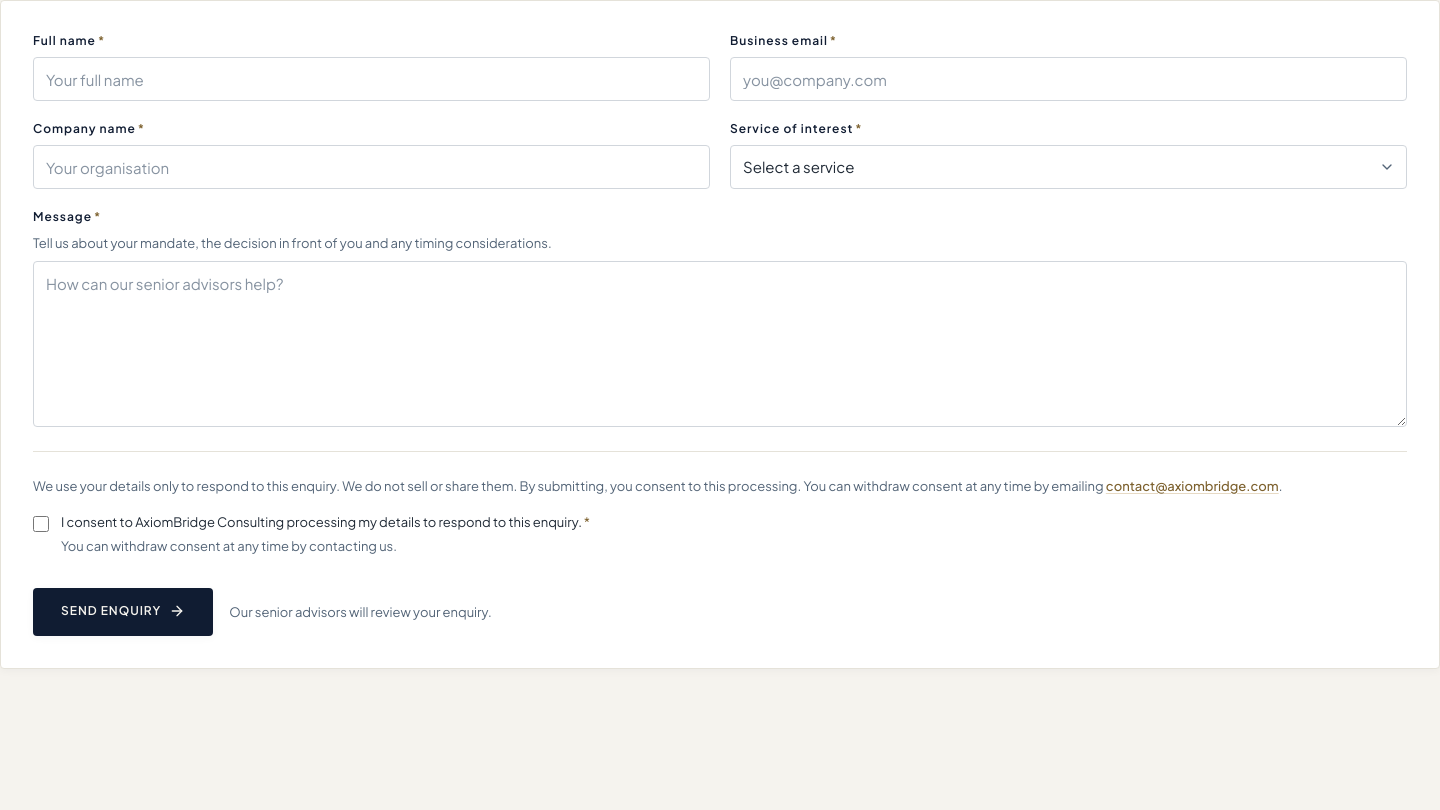
Test case: EnquiryForm with FormSubmit › shows validation errors for missing fields
Click the button "Send enquiry": x=123, y=612 left=33, top=588, right=213, bottom=636
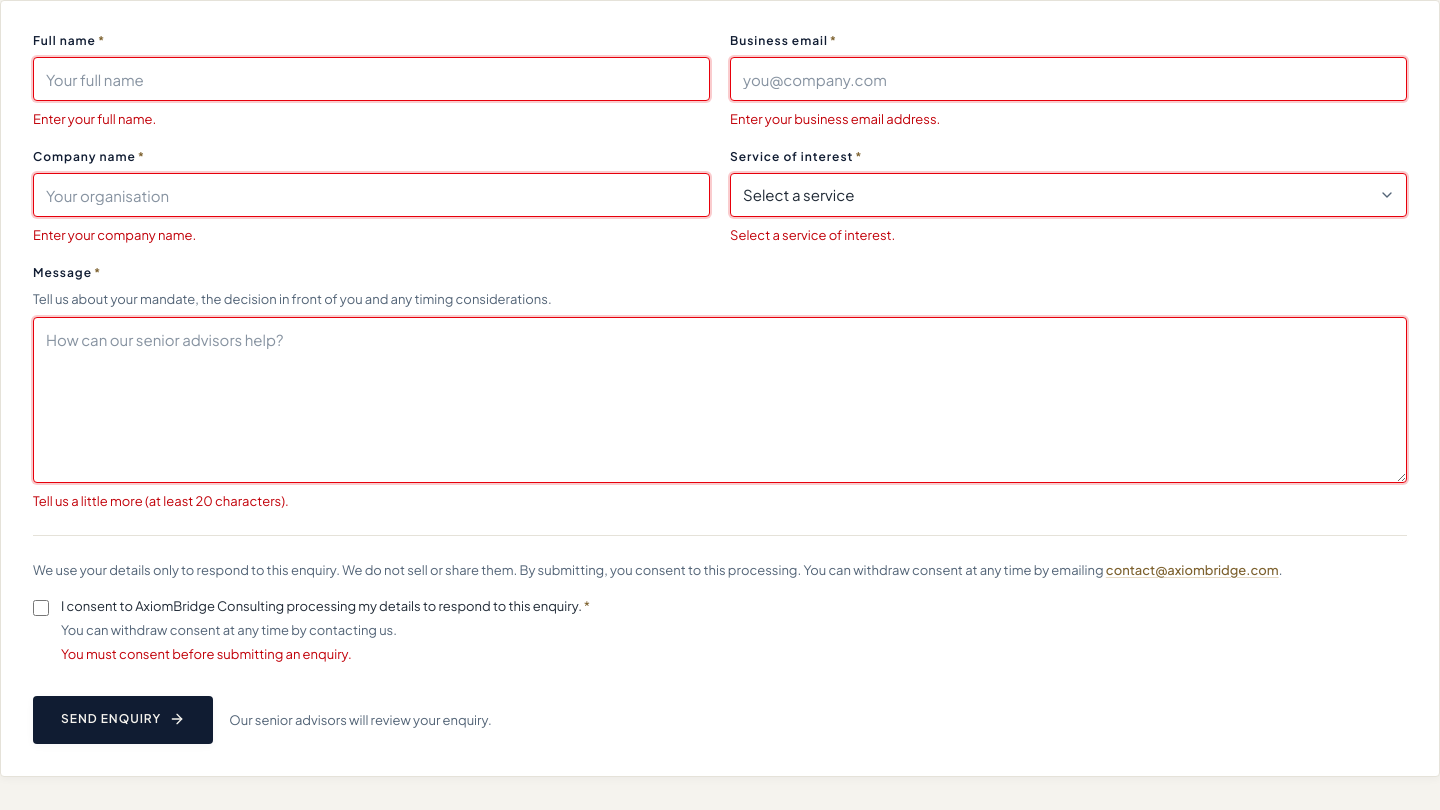
Expected: the text "Enter your full name." is shown, left=33, top=111, right=156, bottom=127
Expected: the text "Enter your business email address." is shown, left=730, top=111, right=940, bottom=127
Expected: the text "Select a service of interest." is shown, left=730, top=227, right=895, bottom=243
